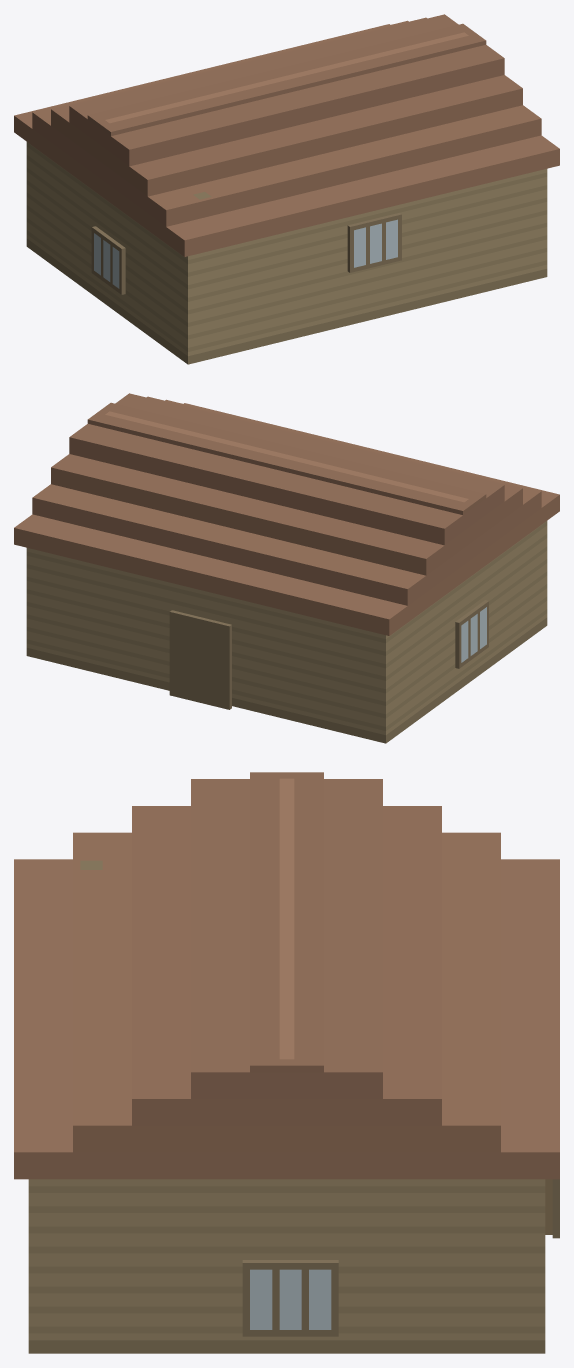
The model's file is planta_curtido_01.glb.
The picture shows the model from 3 angles, top to bottom: view 1: azimuth 30°, elevation 25°; view 2: azimuth 150°, elevation 25°; view 3: azimuth 270°, elevation 25°; orthographic projection. The views are drawn at different scales.
Parts seen in each view (by area): view 1: planta_curtido_01; view 2: planta_curtido_01; view 3: planta_curtido_01.
Part boxes in pixels (x1=…): planta_curtido_01: x1=14, y1=14, x2=559, y2=364; planta_curtido_01: x1=14, y1=393, x2=559, y2=743; planta_curtido_01: x1=14, y1=772, x2=559, y2=1353.
Bounding box in the file's own units: 9.4 × 4.4 × 7.4.
